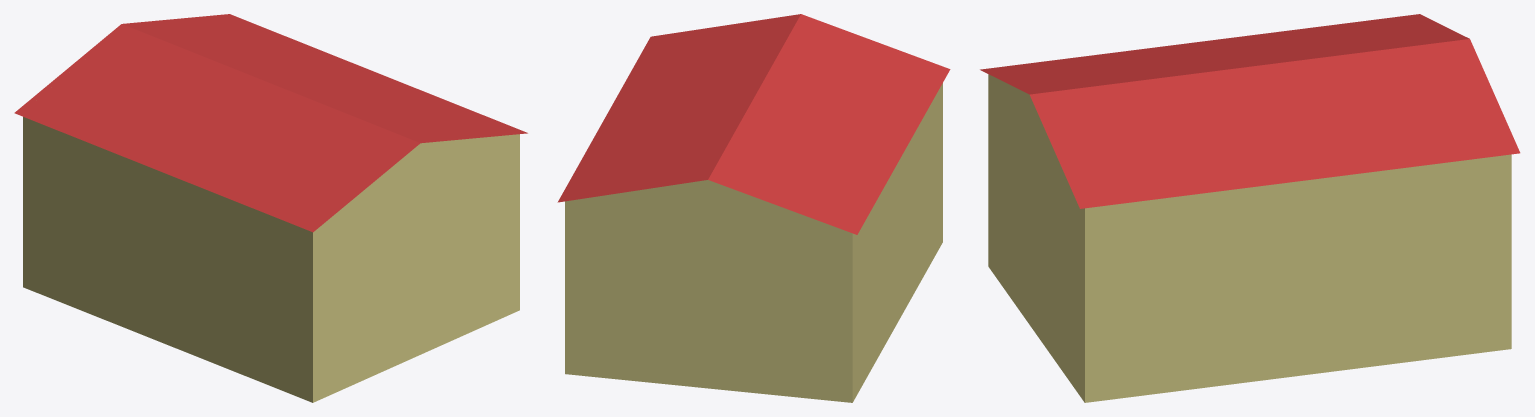
3 views of the same model, side by side, from view 1: azimuth 30°, elevation 25°; view 2: azimuth 150°, elevation 25°; view 3: azimuth 270°, elevation 25° (orthographic). The views are drawn at different scales.
Bounding box in the file's own units: 16.35 × 18.9 × 9.28.
